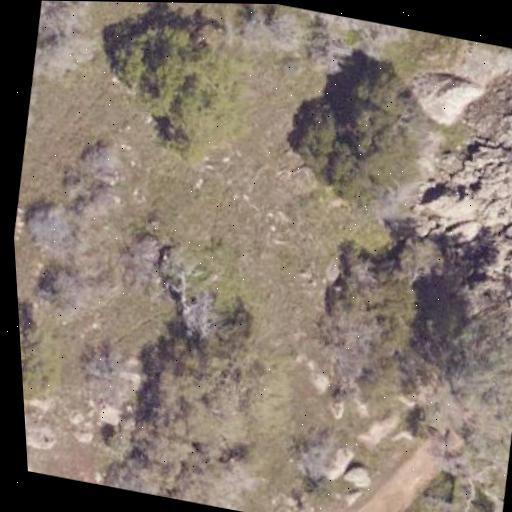tree-top: (86, 6, 270, 163), (122, 286, 294, 441), (284, 47, 435, 212), (24, 137, 153, 320), (394, 298, 512, 496), (291, 254, 431, 375), (237, 4, 401, 81), (18, 304, 80, 433), (67, 333, 154, 411), (35, 1, 108, 47)
